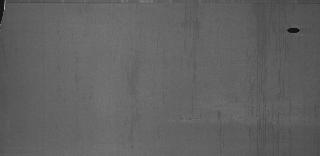punching hole: (286, 25, 302, 35)
water spot: (250, 5, 282, 145)
welding line: (6, 1, 320, 6)
